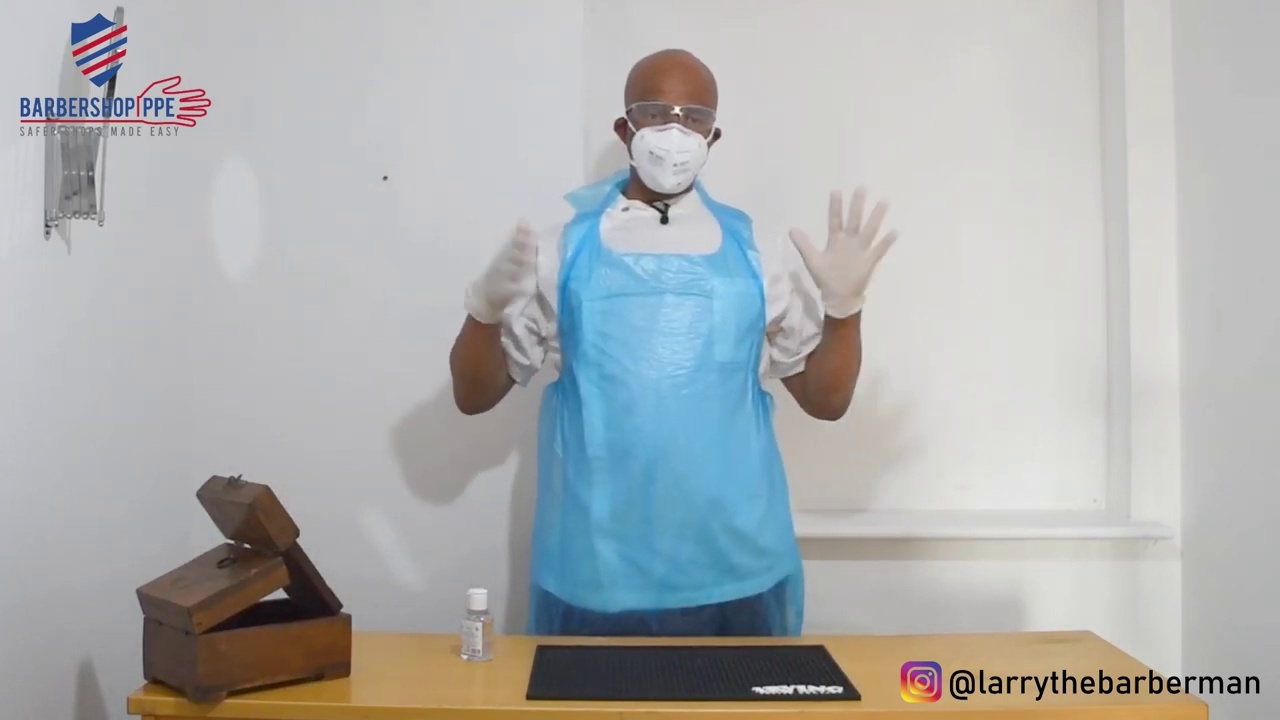Apron: (521, 165, 817, 630)
Glove: (771, 179, 919, 334), (423, 209, 557, 345)
Mask: (598, 112, 739, 204)
No_Hairnet: (616, 36, 729, 125)
